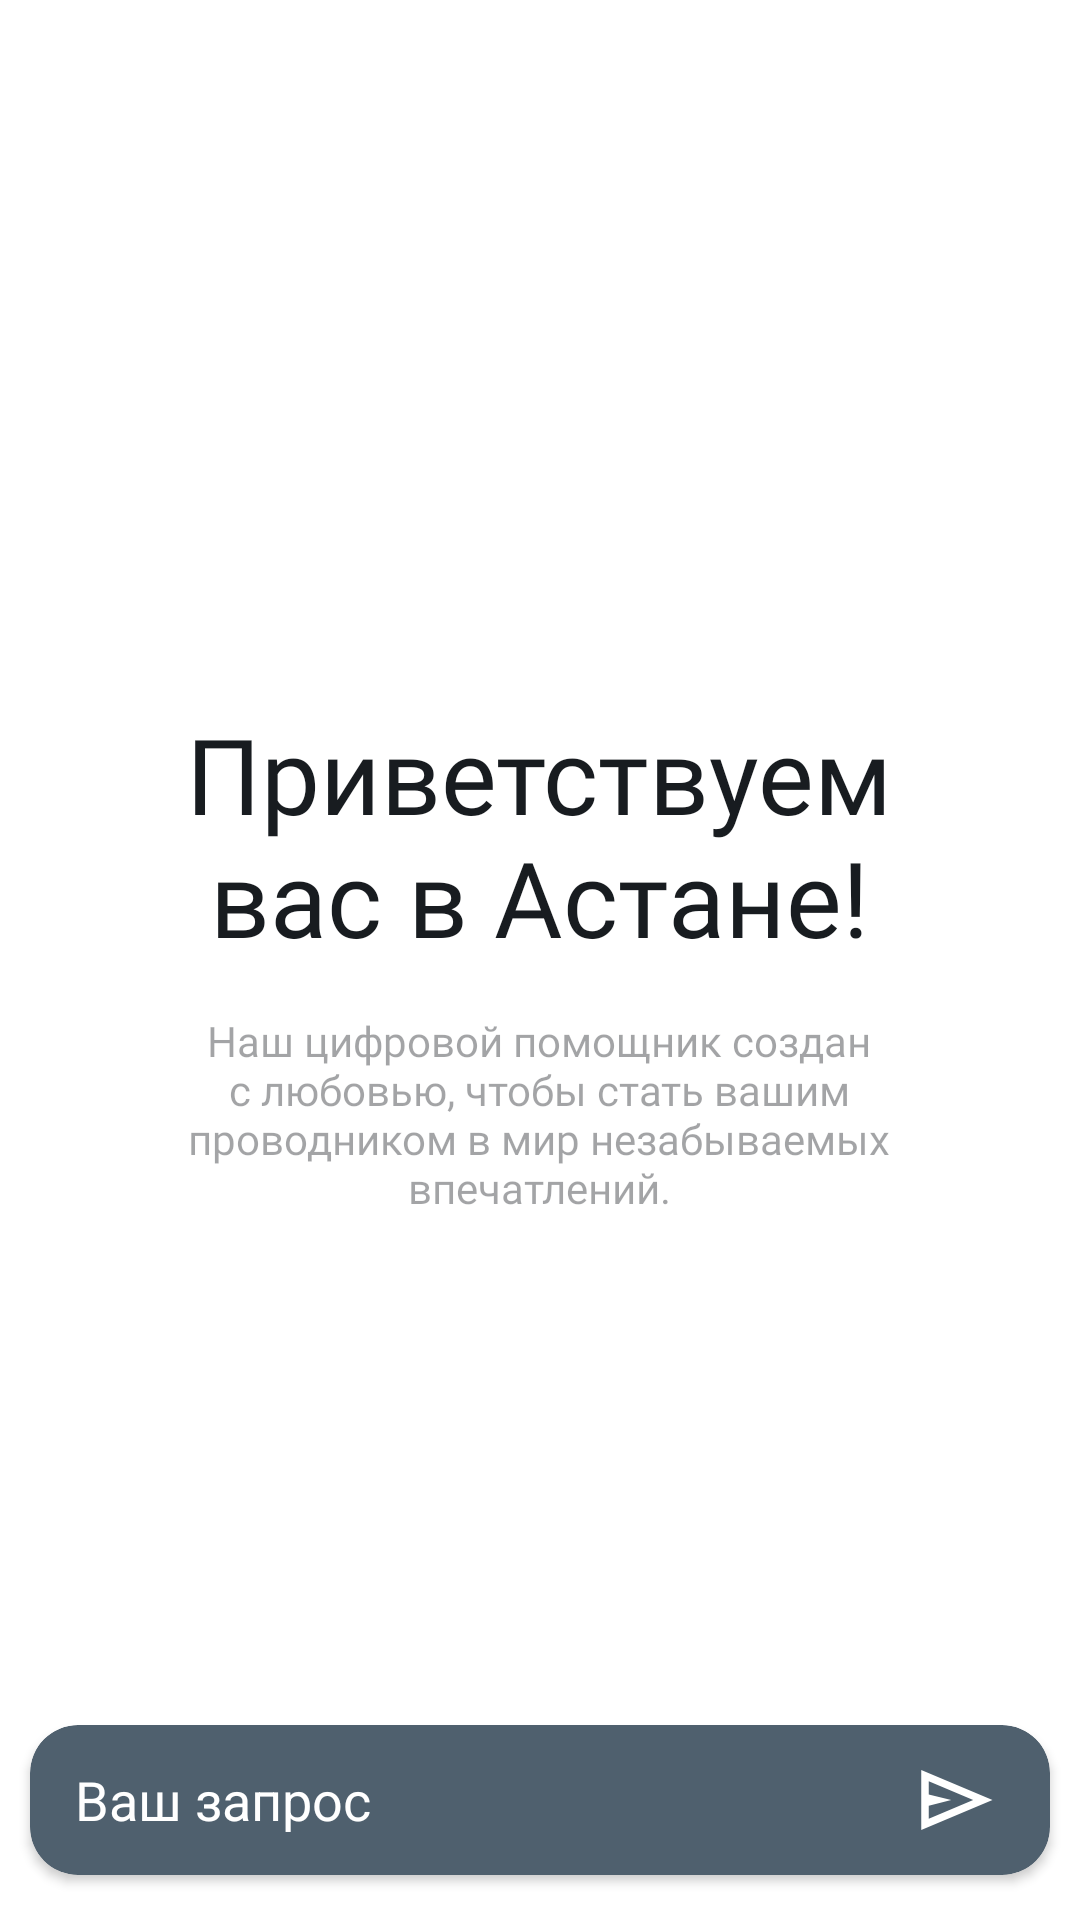

Screen size 1080px x 1920px. Icon name, then its box in pixels as (x1, y1, x2, y2):
send msg: (921, 1770, 992, 1830)
